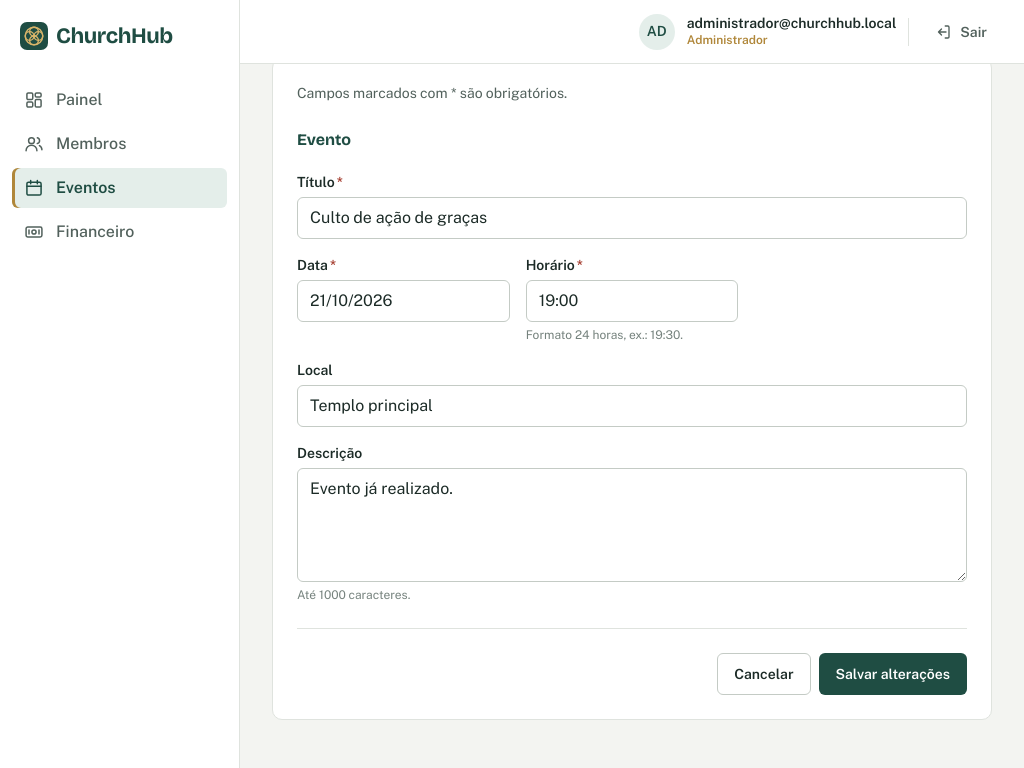
Test: edição de evento › RN09: ADMINISTRADOR edita o evento encerrado
(page scrolled)
Expected: the field labelled "Título*" holds "Culto de ação de graças", [297,197,967,239]
Replace the text in the text box labelled "Descrição" with "Culto realizado com a presença de 120 pessoas." at (632, 525), box [297,468,967,582]
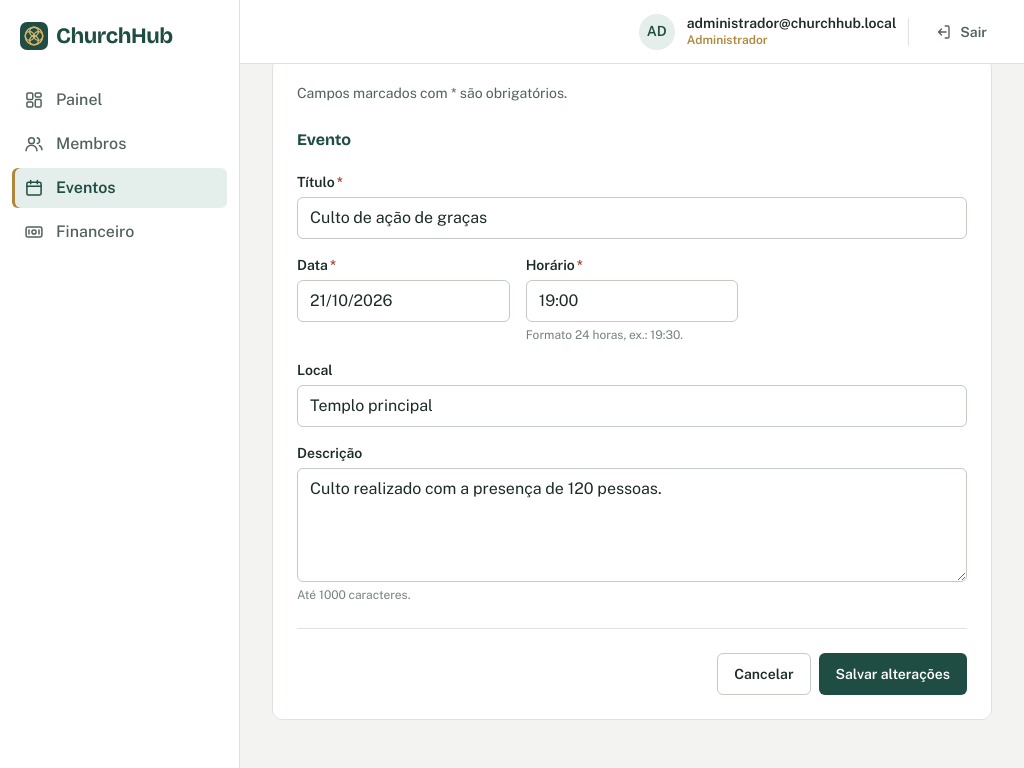
Click the button "Salvar alterações" at (893, 674), box [818,653,967,695]
(page scrolled)
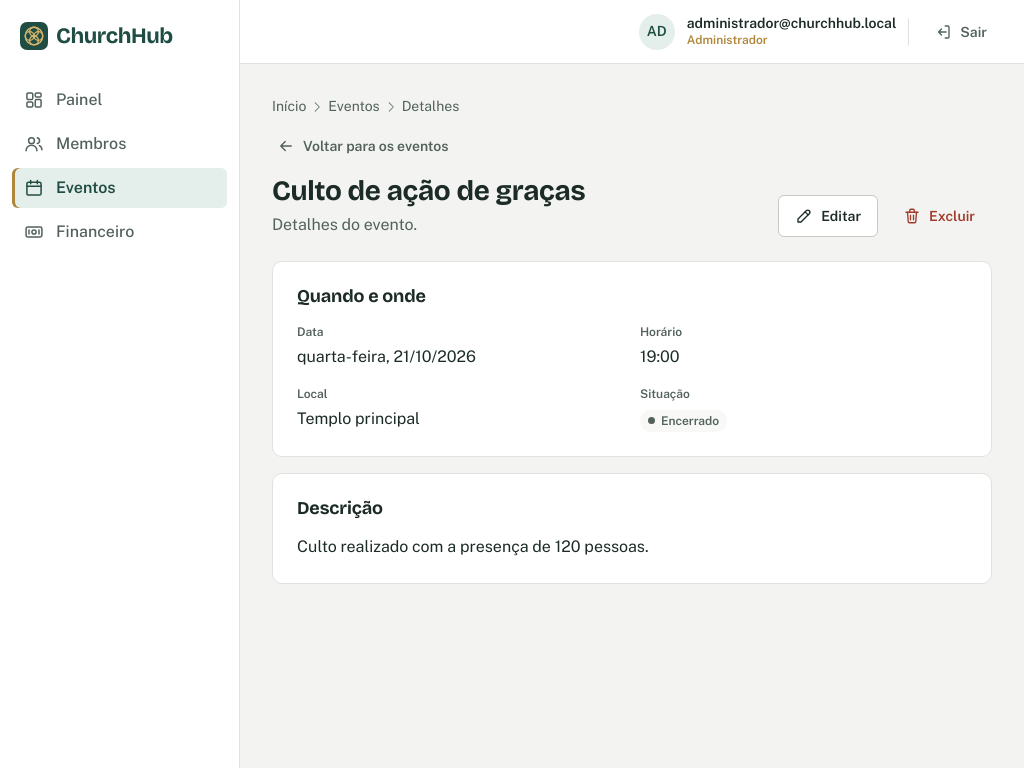
Expected: the text "Culto realizado com a presença de 120 pessoas." is shown, [297,537,648,556]
